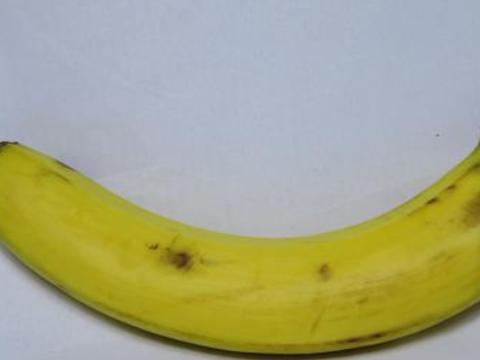freshripe: (0, 128, 479, 359)
